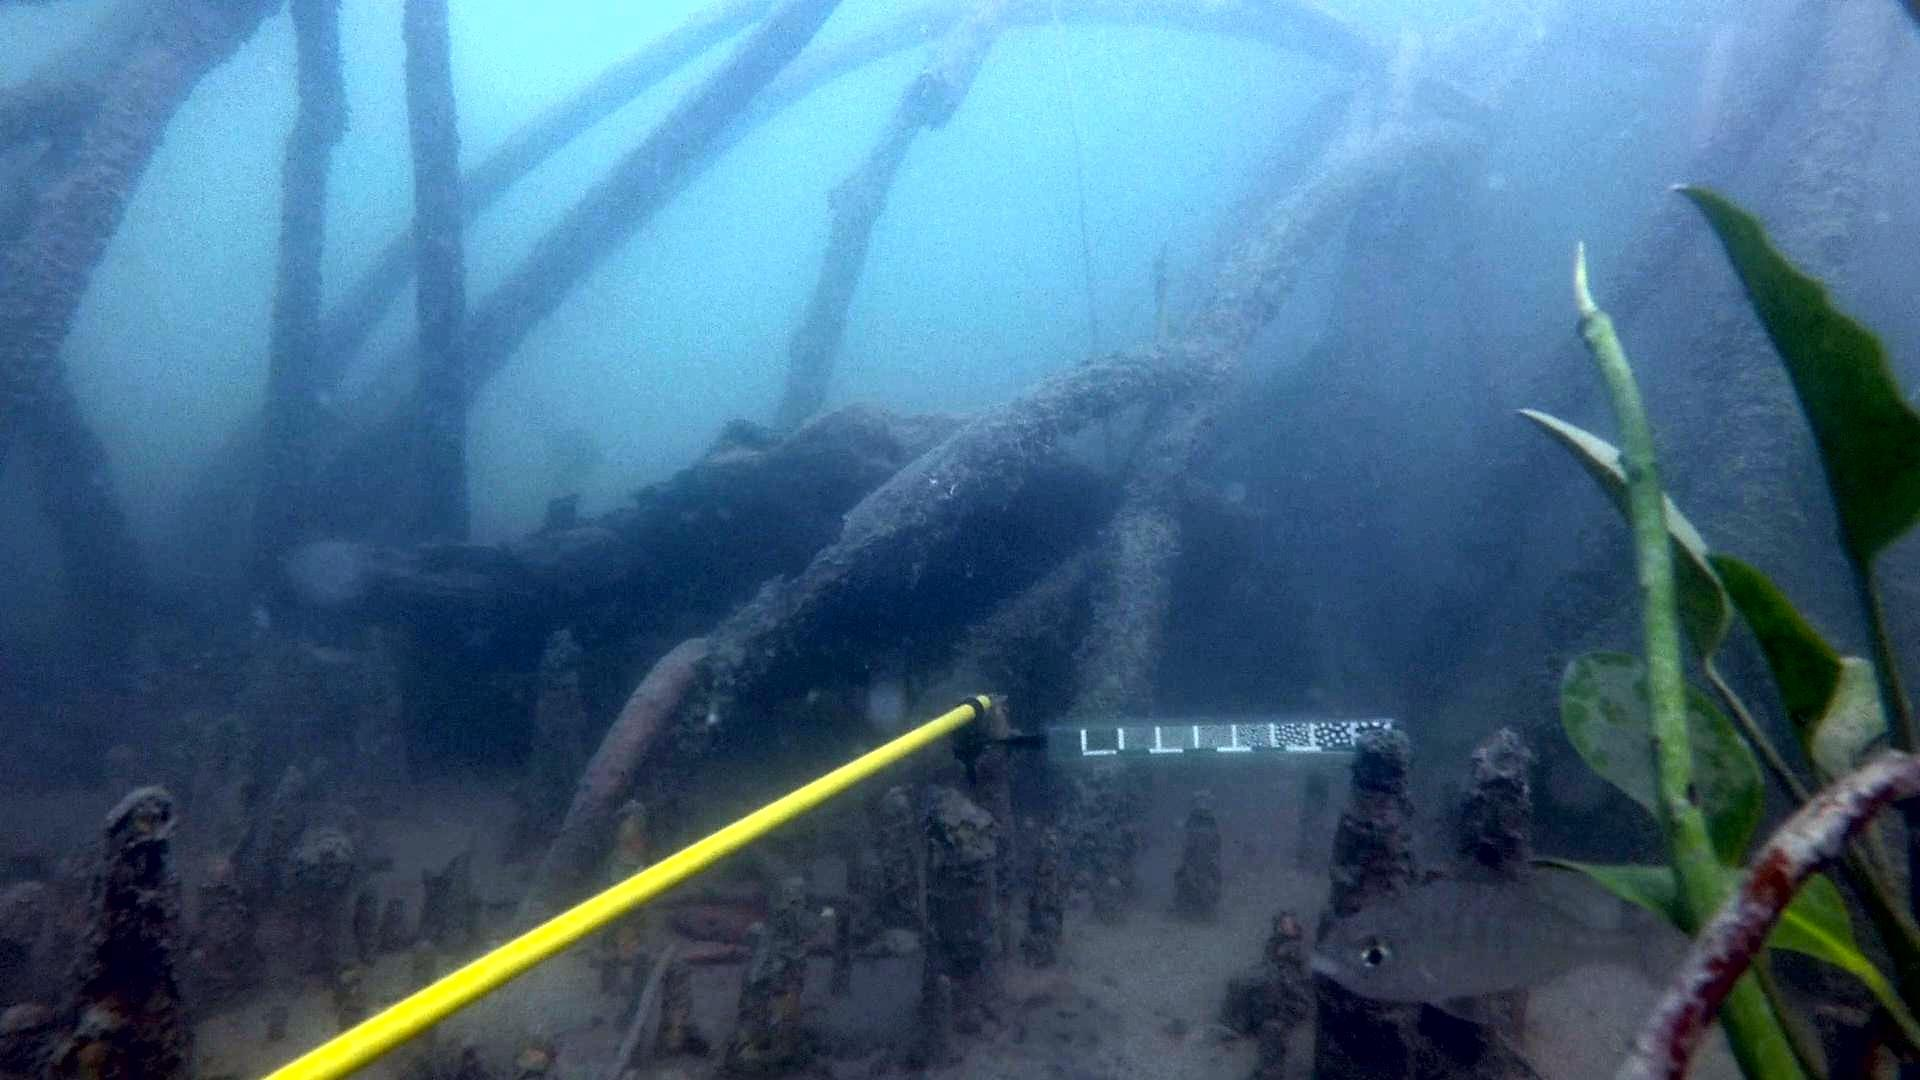gerres: (1311, 822, 1625, 1023)
